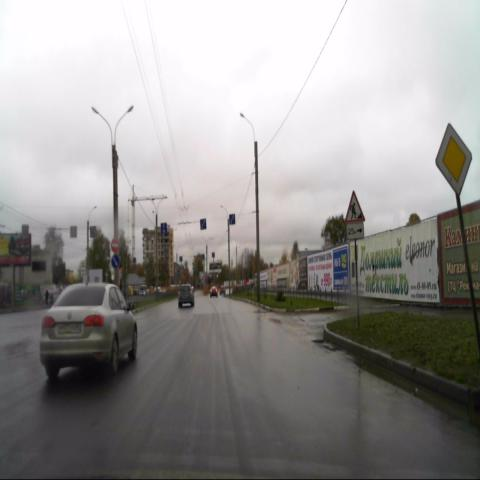8_1_3: (347, 223, 364, 240)
